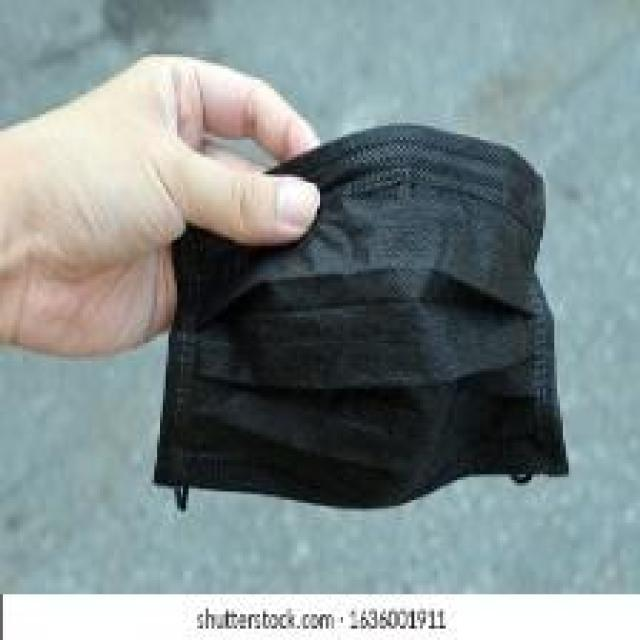Mask: (113, 130, 595, 528)
